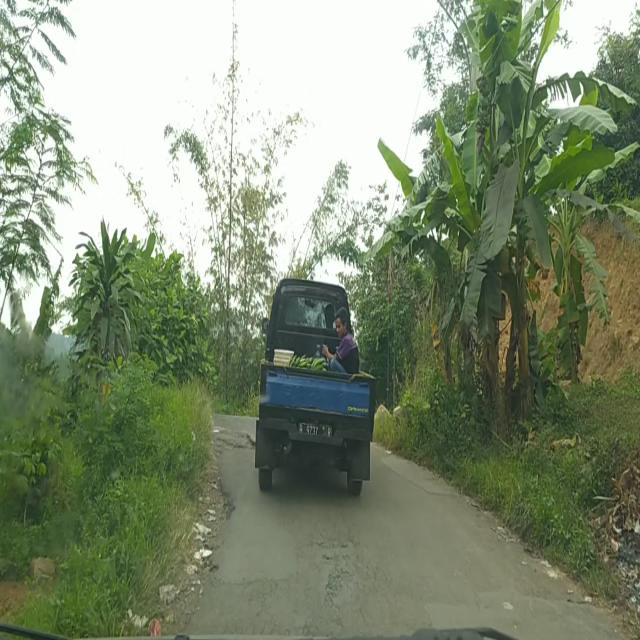Drain Hole: (302, 514, 381, 626)
